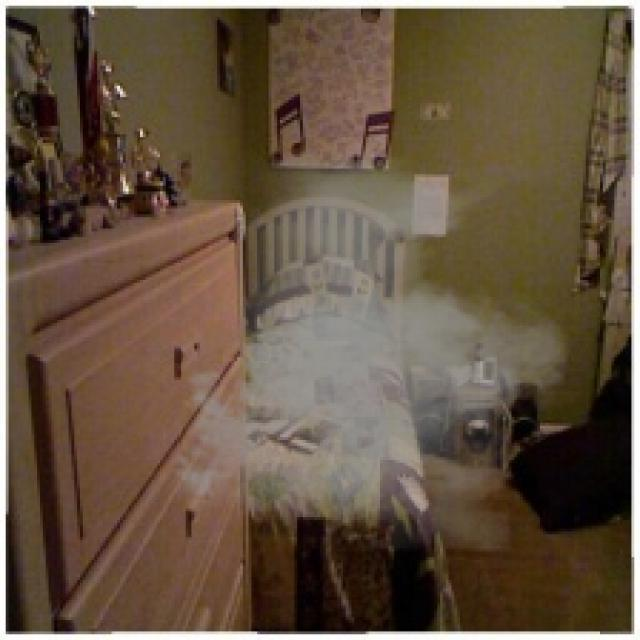Smoke: (160, 152, 586, 552)
